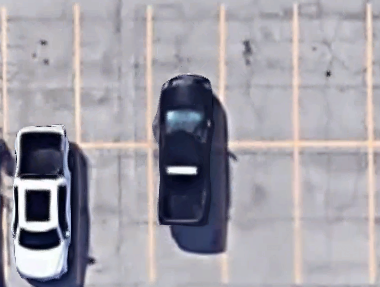Occupied: (149, 6, 223, 146), (3, 146, 78, 284), (150, 147, 225, 282)
Vacant: (75, 5, 151, 147), (221, 5, 297, 144), (295, 6, 371, 145), (222, 144, 298, 283), (4, 5, 78, 147), (298, 144, 373, 284), (76, 146, 151, 281)
